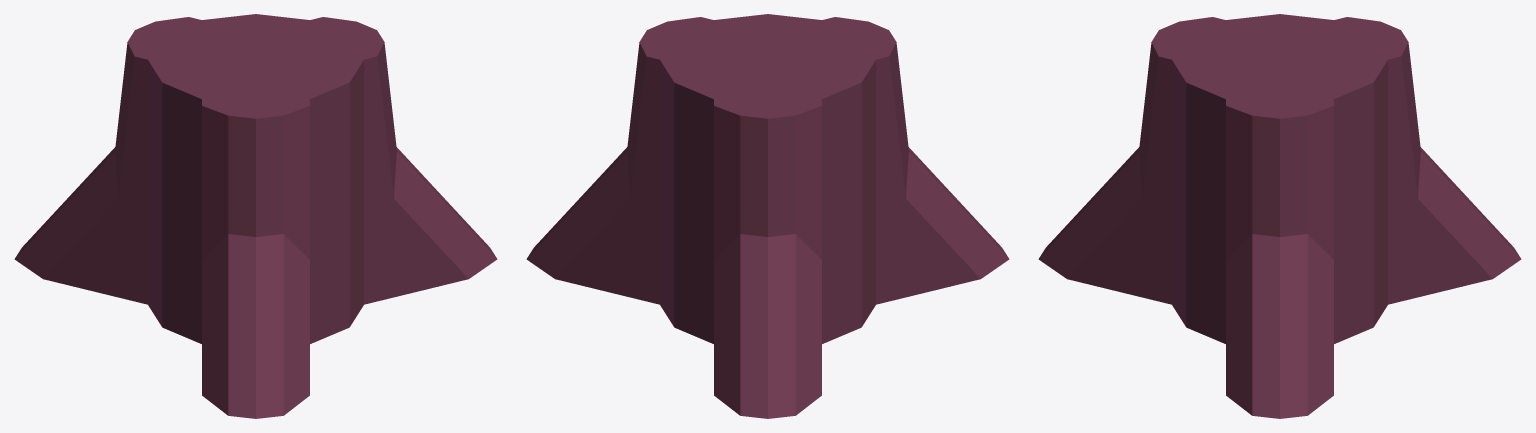
Rendered from stump2.fbx.
3 renders of one model, left to right at view 1: azimuth 30°, elevation 25°; view 2: azimuth 150°, elevation 25°; view 3: azimuth 270°, elevation 25°, orthographic.
Visible parts, largest first — view 1: Cylinder.002; view 2: Cylinder.002; view 3: Cylinder.002.
Part boxes in pixels (box(x1,y1,x2,y2)): Cylinder.002: box(14, 14, 497, 418); Cylinder.002: box(526, 14, 1009, 418); Cylinder.002: box(1038, 14, 1521, 418).
Bounding box in the file's own units: 394 × 250 × 447.
